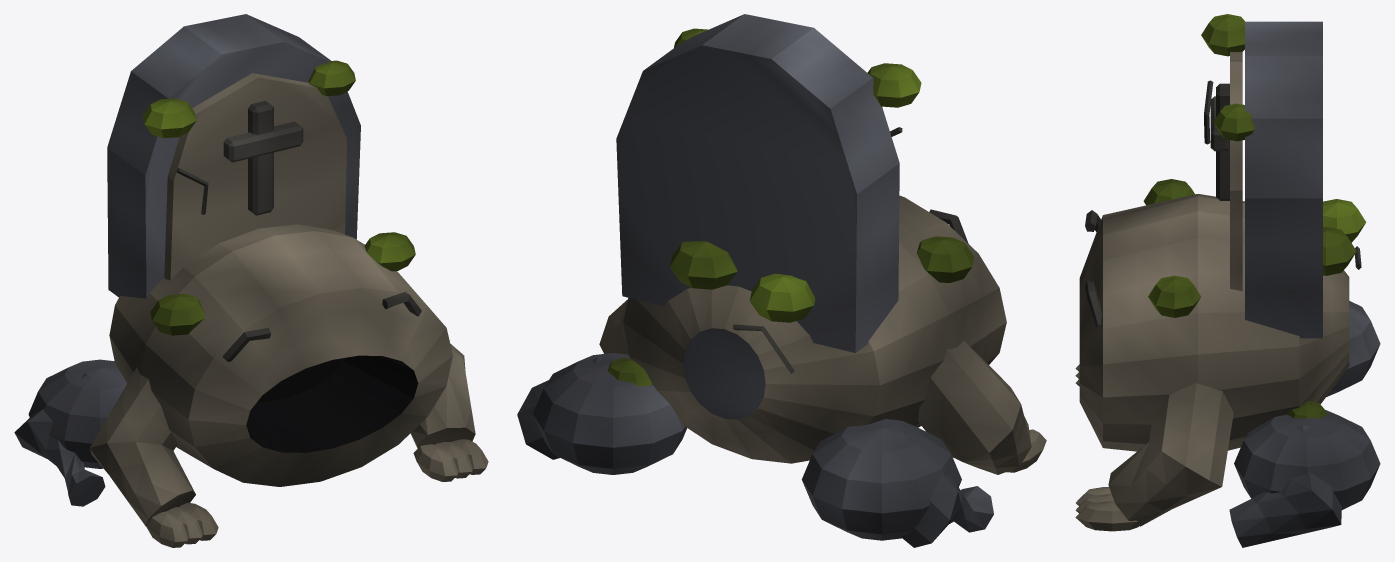
File: grave_hopper.fbx
3 views of the same model, side by side, from view 1: azimuth 30°, elevation 25°; view 2: azimuth 150°, elevation 25°; view 3: azimuth 270°, elevation 25° (orthographic). The views are drawn at different scales.
Visible parts, largest first — view 1: grave_hopper; view 2: grave_hopper; view 3: grave_hopper.
Boxes of the visible parts, bbox=[...] form: grave_hopper: bbox=[14, 14, 488, 547]; grave_hopper: bbox=[517, 14, 1046, 547]; grave_hopper: bbox=[1075, 14, 1380, 547].
Size of the model in its own units: 2.93 by 3.02 by 1.96.
